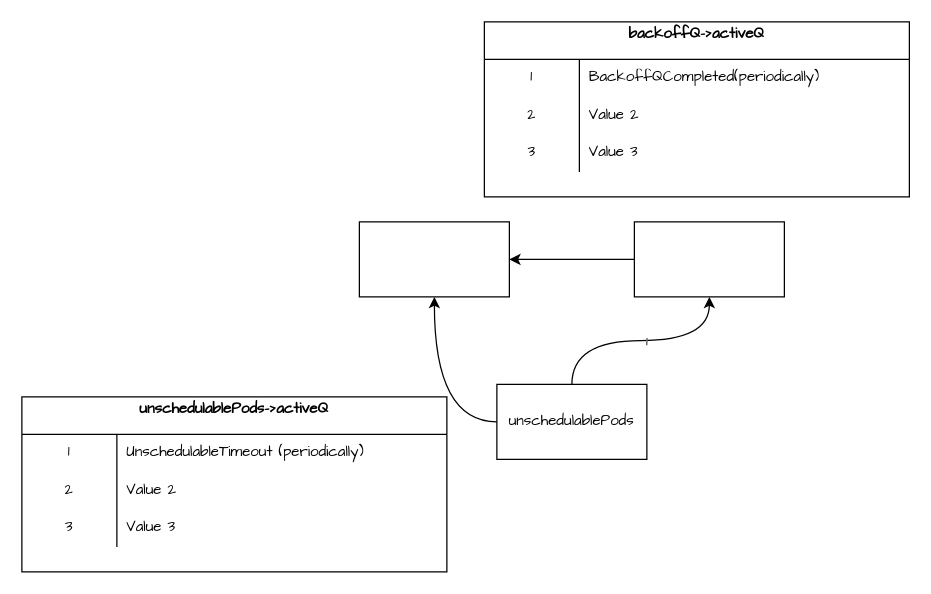
Image size: 931x594. Some labels were removed from this diagram. The shapes that lost their labels are listed below. From the top down, each one's centre as x and y in pixels, then its label:
At pixel 433 259: "activeQ".
At pixel 708 259: "backoffQ".
